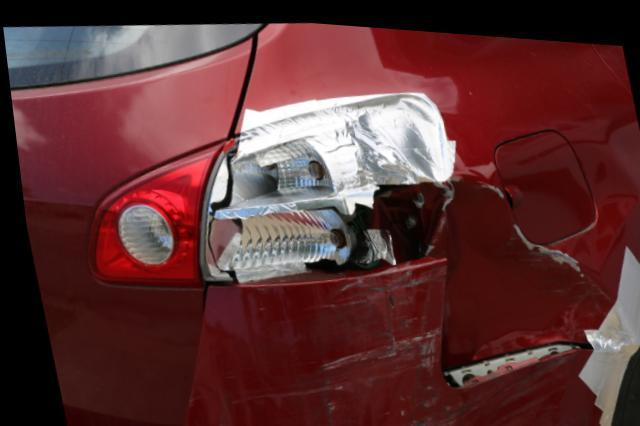dent: (425, 171, 620, 364)
lamp broken: (196, 92, 445, 279)
scratch: (301, 257, 553, 426)
